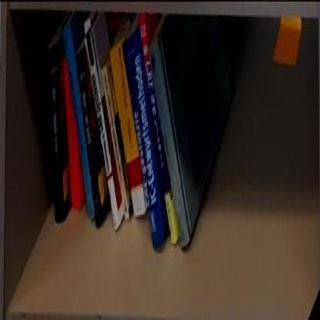book-spine: (120, 26, 166, 253), (146, 35, 192, 251), (137, 12, 177, 248), (82, 33, 121, 235), (61, 20, 96, 223), (108, 39, 147, 218), (75, 49, 103, 227), (99, 63, 130, 222), (46, 45, 65, 225), (63, 57, 81, 210)
